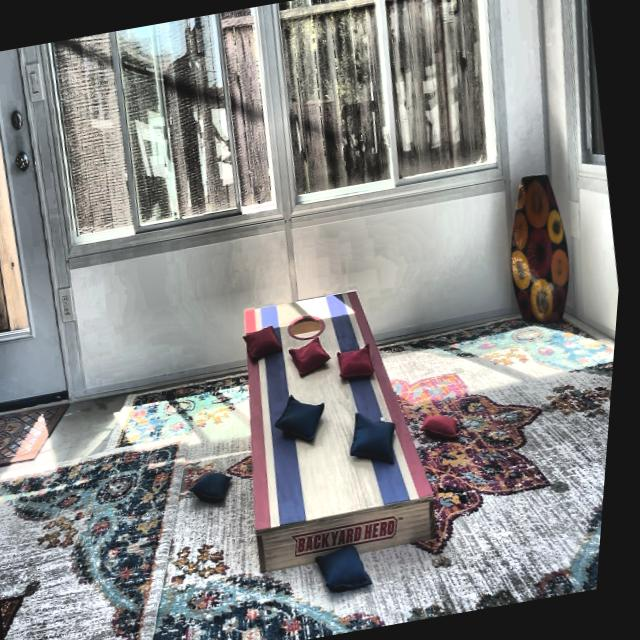blue-bean-bag: (349, 405, 408, 470), (276, 388, 339, 448), (320, 542, 384, 596), (195, 468, 244, 505)
board: (234, 288, 413, 524)
hole: (288, 310, 334, 344)
red-bean-bag: (291, 334, 340, 378), (246, 322, 289, 360), (339, 344, 382, 380), (425, 408, 468, 444)
